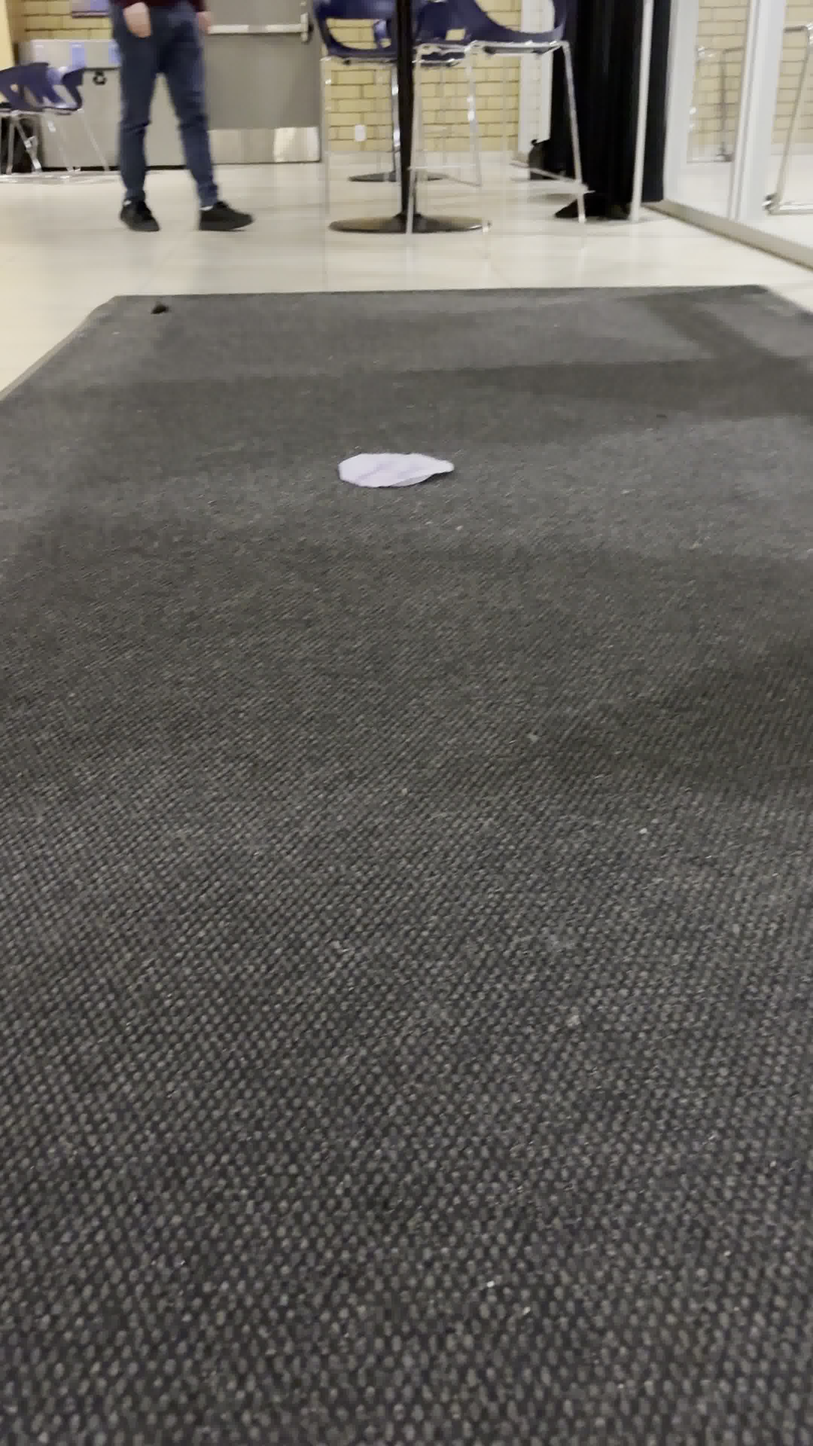Target: (334, 445, 457, 489)
